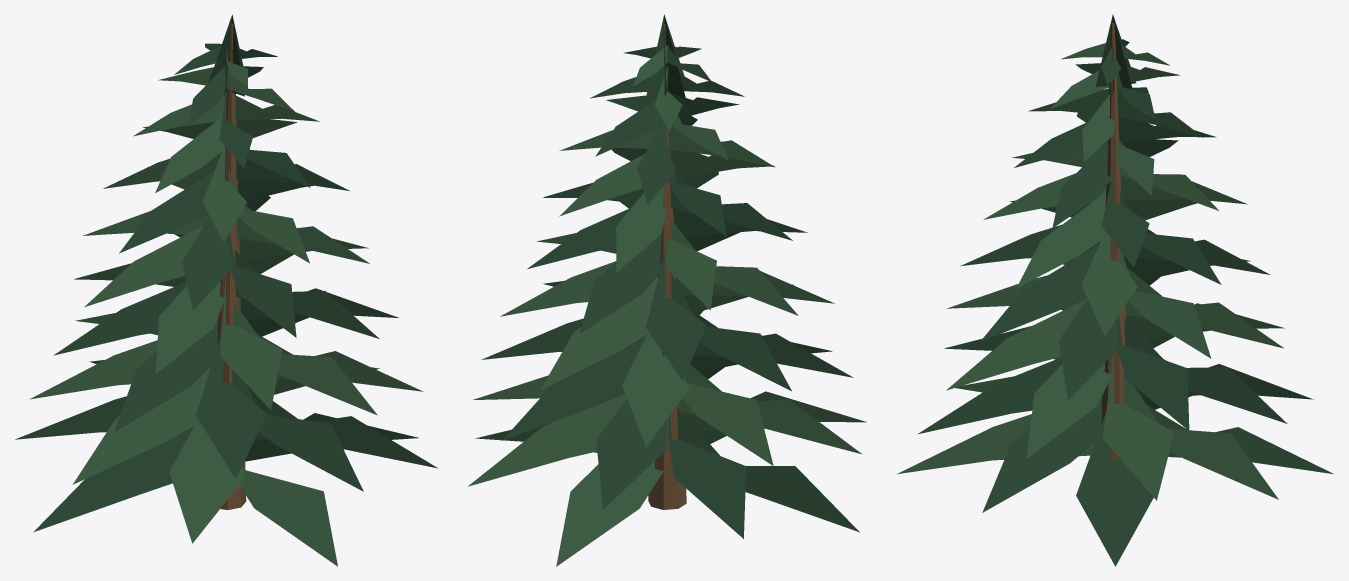
Rendered from detail_spruce_impostor.glb.
3 renders of one model, left to right at view 1: azimuth 30°, elevation 25°; view 2: azimuth 150°, elevation 25°; view 3: azimuth 270°, elevation 25°, orthographic.
Parts seen in each view (by area): view 1: LayeredFarCrown, FarSilhouetteTrunk; view 2: LayeredFarCrown, FarSilhouetteTrunk; view 3: LayeredFarCrown, FarSilhouetteTrunk.
Part boxes in pixels (x1,y1,x2,y2): LayeredFarCrown: (15, 14, 437, 566); FarSilhouetteTrunk: (217, 23, 246, 509); LayeredFarCrown: (468, 14, 866, 566); FarSilhouetteTrunk: (648, 24, 686, 509); LayeredFarCrown: (897, 14, 1333, 566); FarSilhouetteTrunk: (1101, 23, 1126, 461).
Size of the model in its own units: 6.77 by 8.16 by 6.77.
